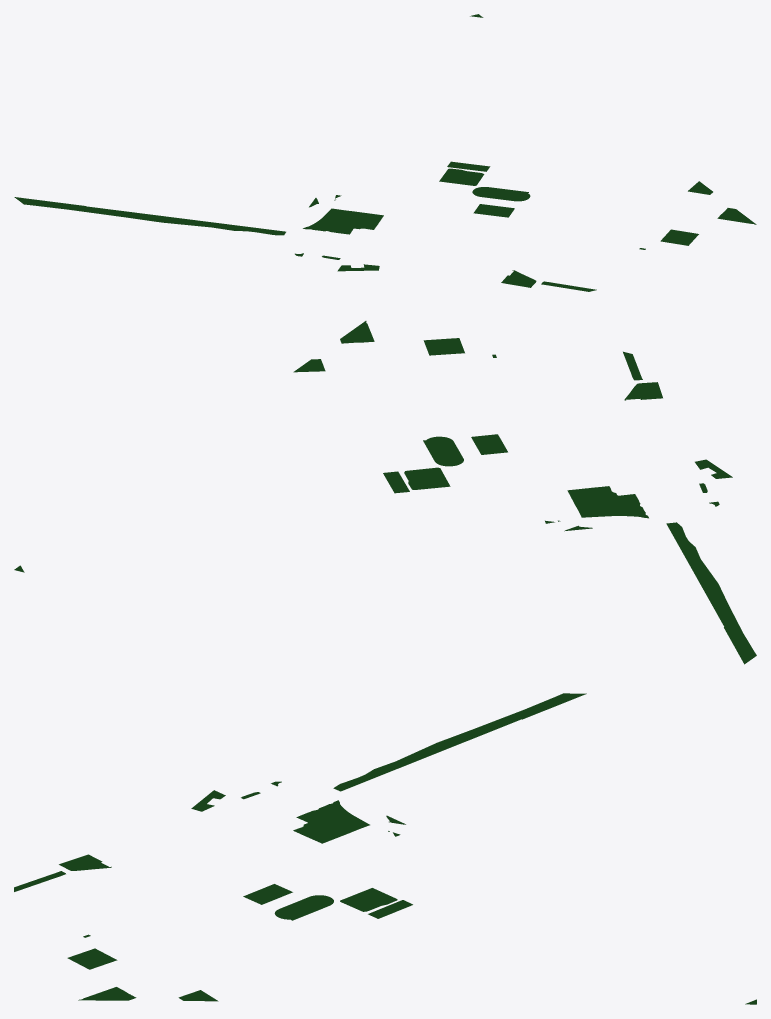
File: PARKS.fbx
3 views of the same model, one above another, from view 1: azimuth 30°, elevation 25°; view 2: azimuth 150°, elevation 25°; view 3: azimuth 270°, elevation 25° (orthographic). The views are drawn at different scales.
Parts seen in each view (by area): view 1: green; view 2: green; view 3: green.
Boxes of the visible parts, left/top/right/bottom form: green: left=14, top=14, right=756, bottom=291; green: left=14, top=321, right=756, bottom=664; green: left=14, top=693, right=756, bottom=1004.
Size of the model in its own units: 1853 by 0.6 by 1871.
